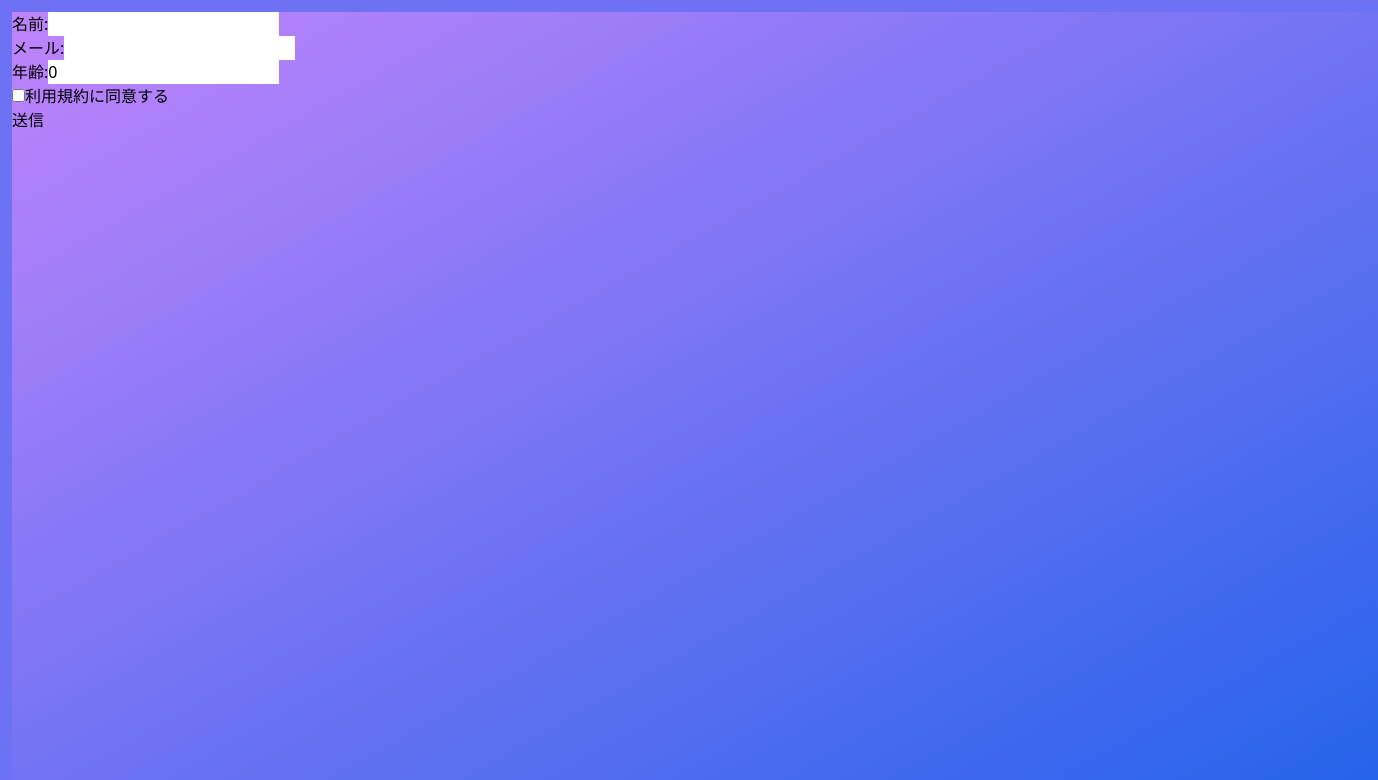
Test: FormComponent › 空の名前でバリデーションエラーが表示される
Click the button with test id "submit-button": [28, 120] box top-left (12, 108), bottom-right (44, 132)
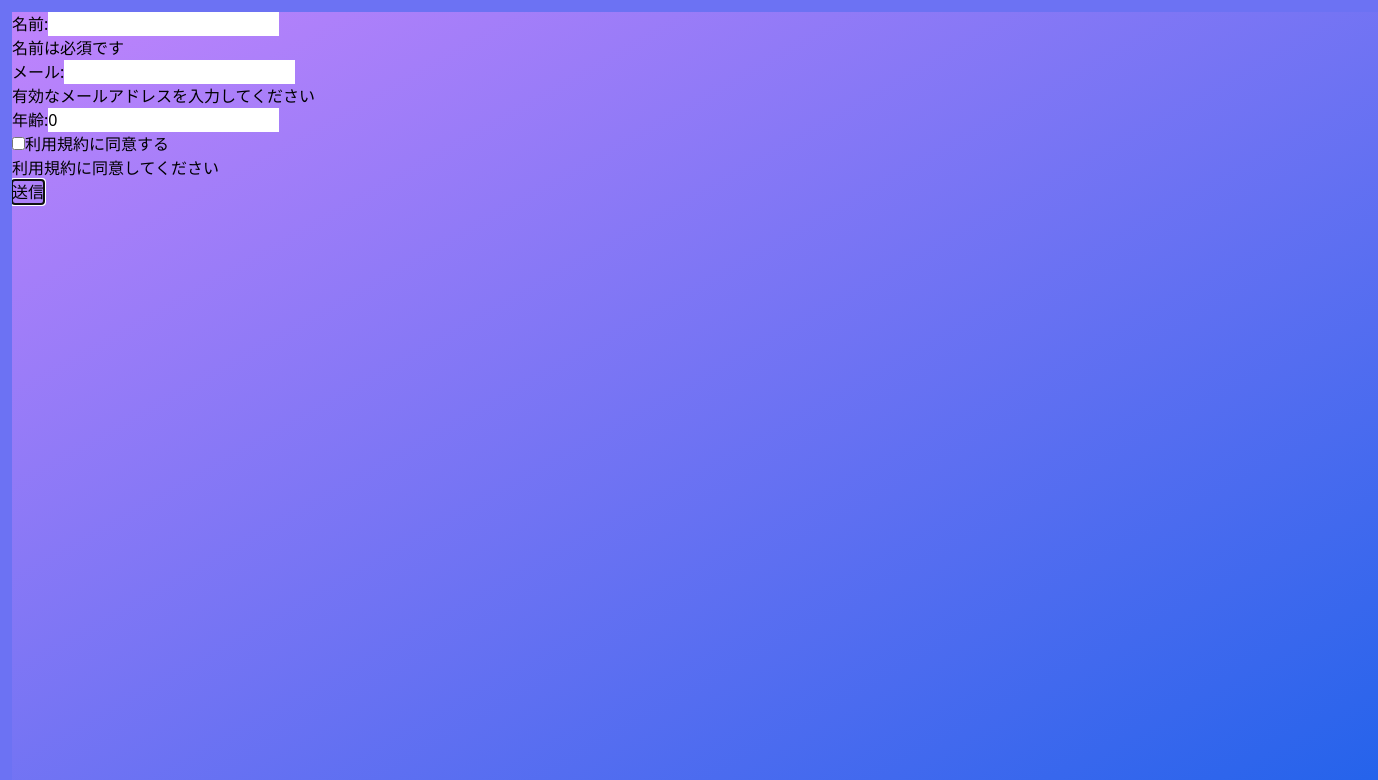
Check: the message with test id "name-error" reads "名前は必須です", box top-left (12, 37), bottom-right (124, 59)
